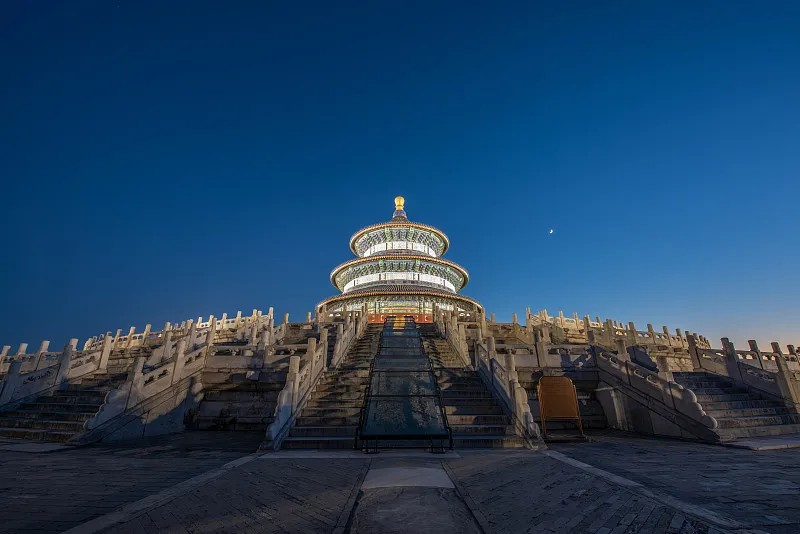Heaven: (314, 194, 480, 325)
